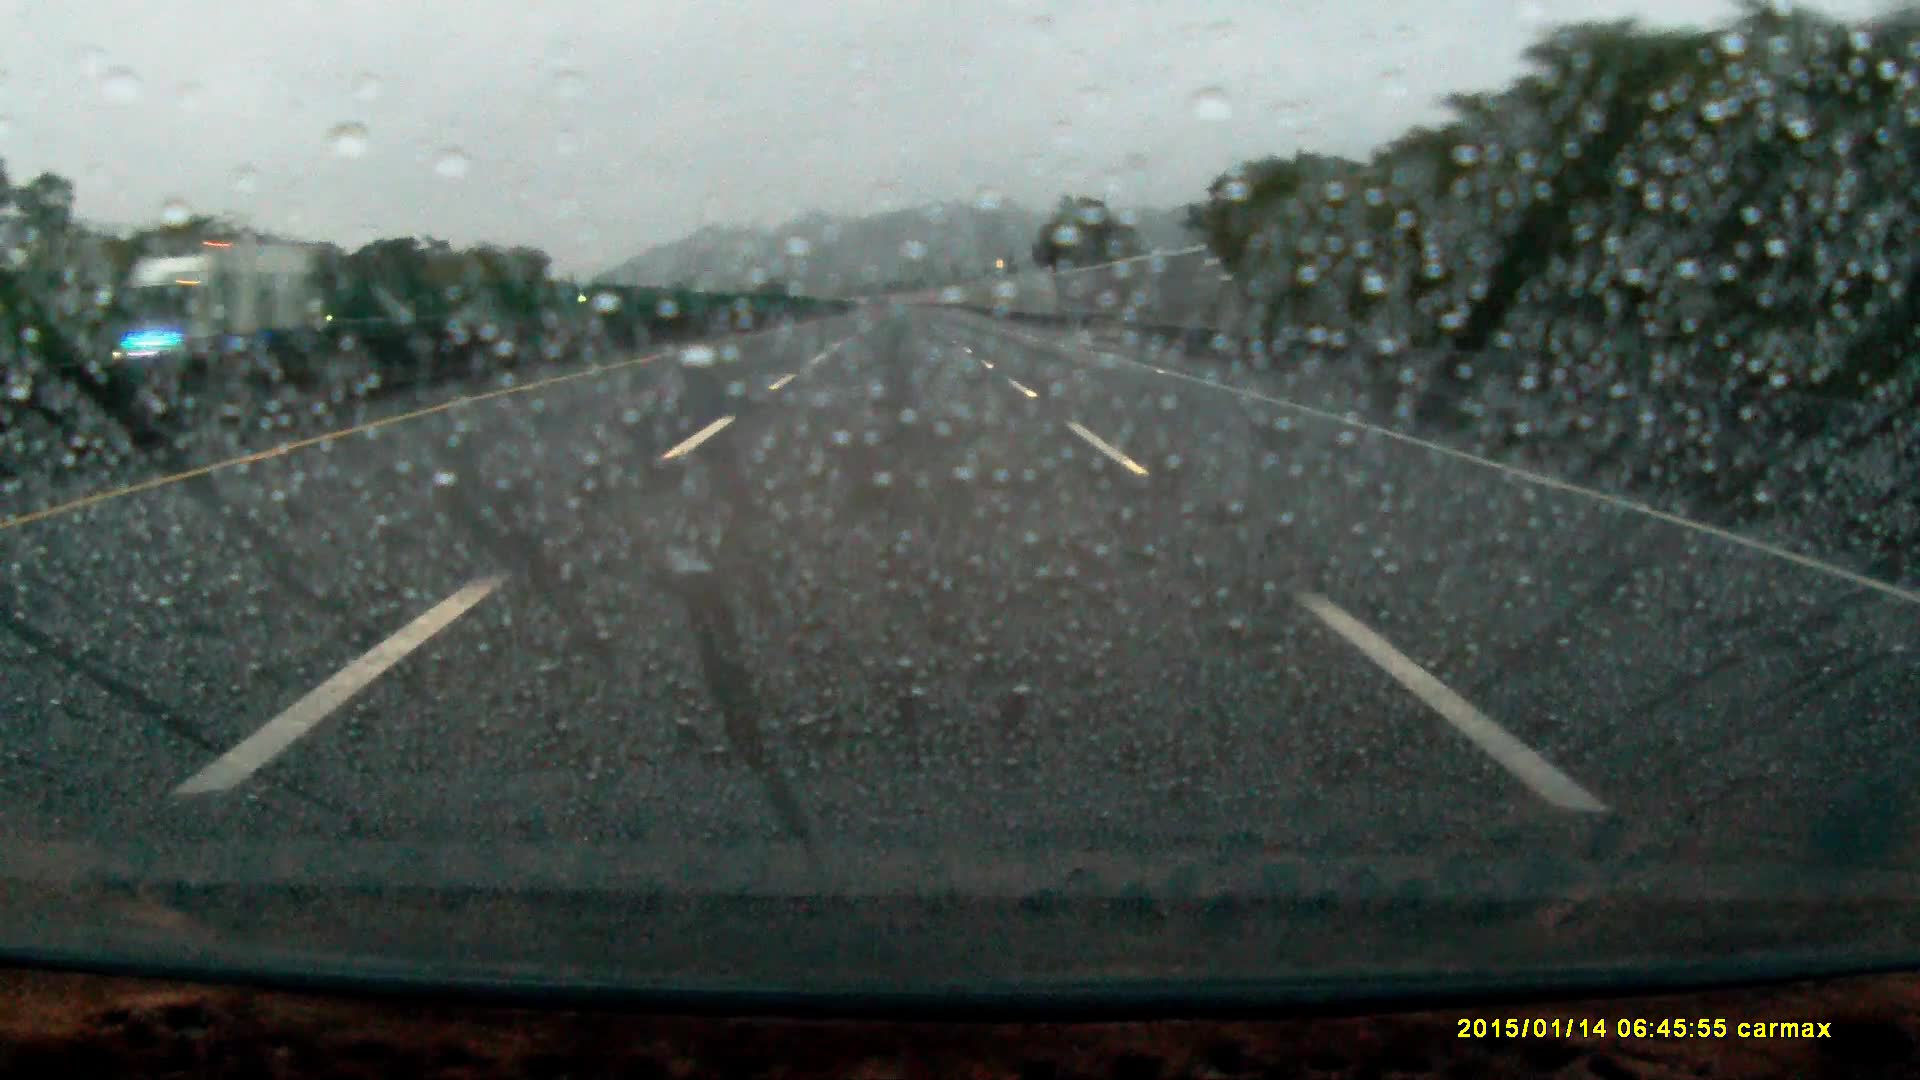vehicle: (108, 236, 330, 401)
